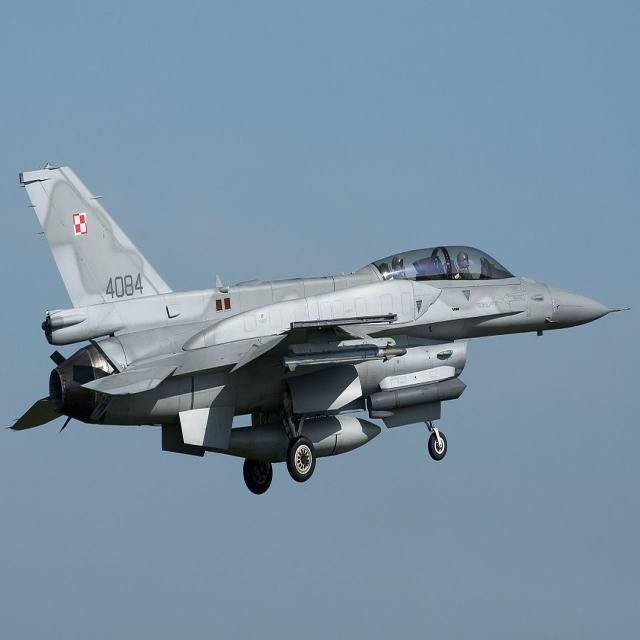MIL_Plane: (5, 160, 631, 496)
